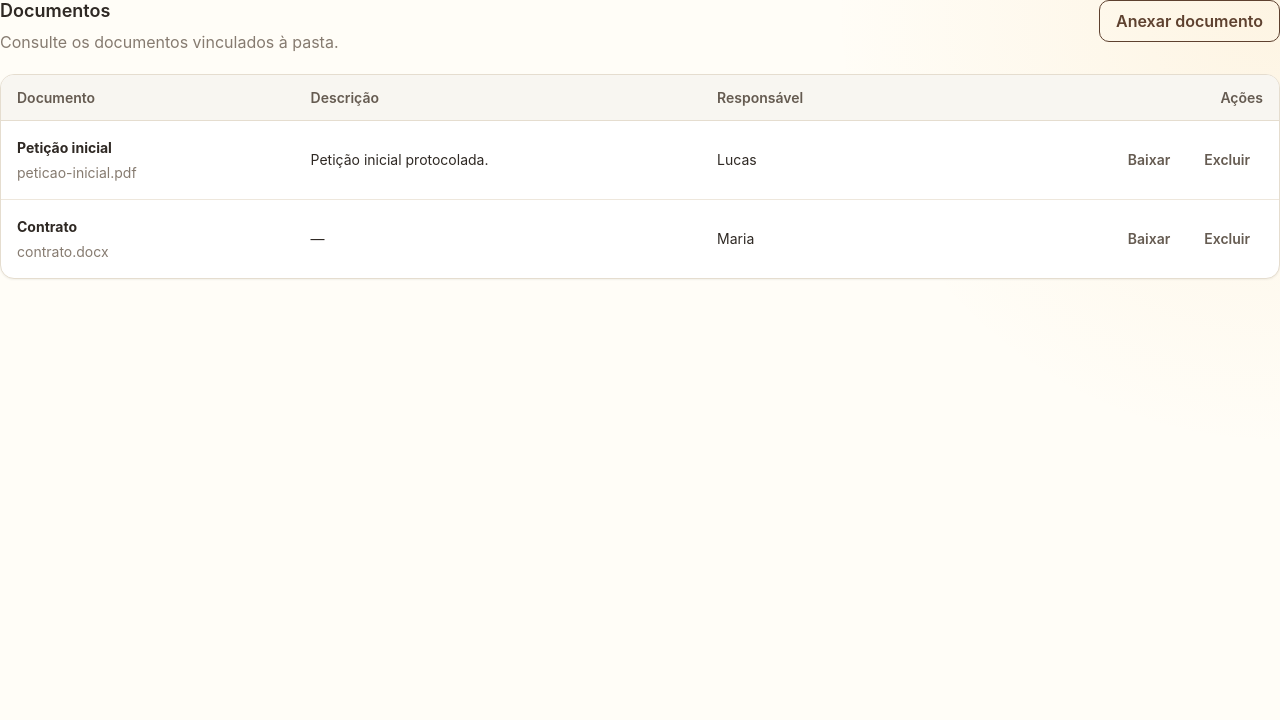
FolderDocuments › abre confirmação ao clicar em Excluir
The width and height of the screenshot is (1280, 720).
Step 1. Click the button "Excluir" in the row of "peticao-inicial.pdf" → (1227, 160), box [1191, 143, 1263, 177]
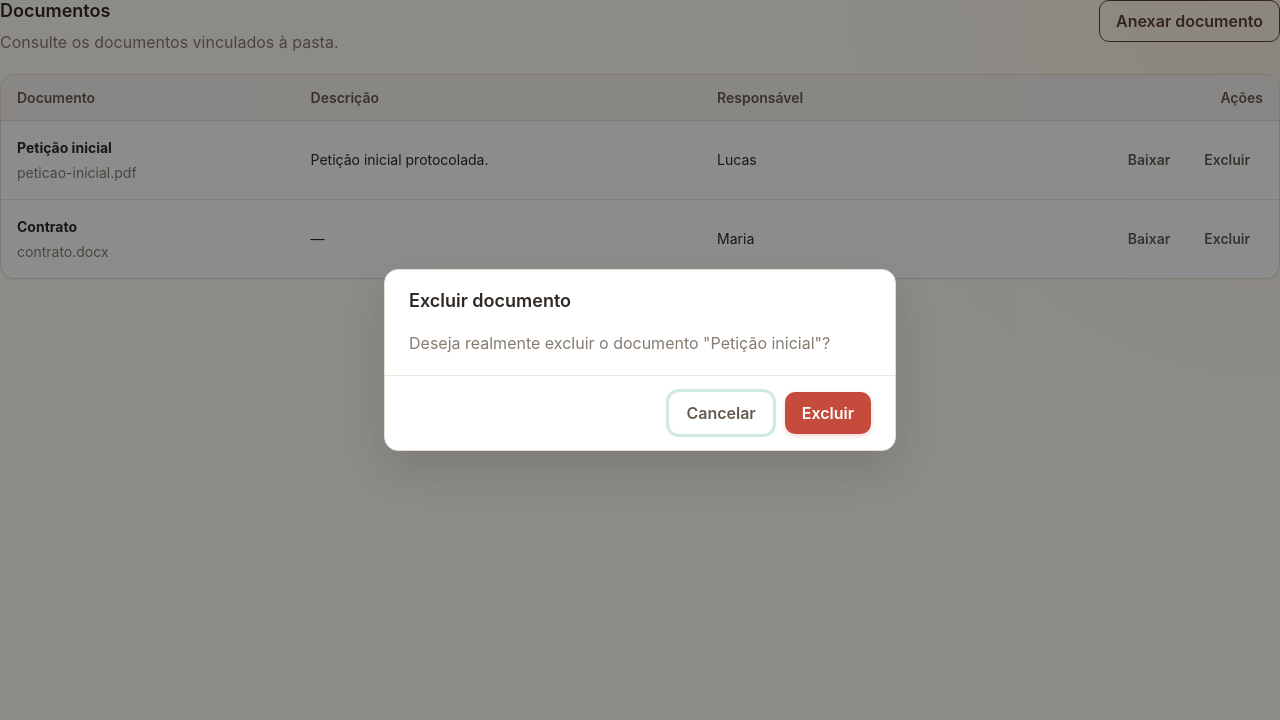
Check: the text "Excluir documento" is shown, box [409, 290, 571, 311]
Check: the text "Deseja realmente excluir o documento \"Petição inicial\"?" is shown, box [409, 331, 871, 355]
